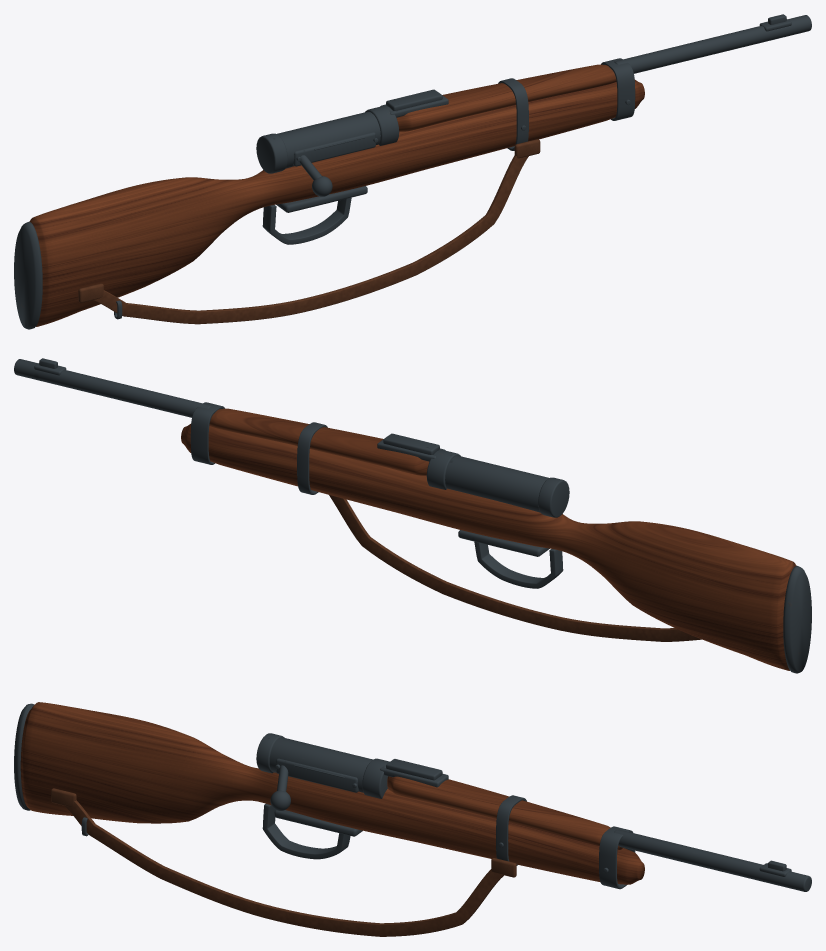
File: kar98k-exterior-wip.glb
3 views of the same model, one above another, from view 1: azimuth 30°, elevation 25°; view 2: azimuth 150°, elevation 25°; view 3: azimuth 330°, elevation 25° (orthographic).
Visible parts, largest first — view 1: stock_shell, sling_visual, upper_wood_cover, solid_front_visual_no_bore, butt_cap, closed_upper_metal_shell, external_guard_no_trigger, upper_shell_side_plate, front_contour_band, rear_shell_rim, decorative_band, underside_solid_detail (+2 smaller); view 2: stock_shell, sling_visual, upper_wood_cover, closed_upper_metal_shell, solid_front_visual_no_bore, butt_cap, external_guard_no_trigger, front_contour_band, rear_shell_rim, decorative_band, underside_solid_detail, front_shell_rim (+1 smaller); view 3: stock_shell, sling_visual, upper_wood_cover, solid_front_visual_no_bore, closed_upper_metal_shell, external_guard_no_trigger, upper_shell_side_plate, front_contour_band, decorative_band, front_shell_rim, butt_cap, underside_solid_detail (+3 smaller).
Boxes of the visible parts, x1,y1,x2,y2 form: stock_shell: (29,79,644,326); sling_visual: (93,155,528,324); upper_wood_cover: (396,64,616,131); solid_front_visual_no_bore: (614,15,811,73); butt_cap: (14,222,42,329); closed_upper_metal_shell: (277,111,380,168); external_guard_no_trigger: (262,197,351,244); upper_shell_side_plate: (293,132,375,166); front_contour_band: (601,58,635,120); rear_shell_rim: (256,133,287,173); decorative_band: (498,78,528,150); underside_solid_detail: (276,186,367,212); stock_shell: (181,423,796,670); sling_visual: (329,495,701,641); upper_wood_cover: (209,408,429,475); closed_upper_metal_shell: (445,455,548,512); solid_front_visual_no_bore: (14,359,211,417); butt_cap: (783,566,811,673); external_guard_no_trigger: (474,541,563,588); front_contour_band: (190,402,224,464); rear_shell_rim: (538,477,569,517); decorative_band: (297,422,327,494); underside_solid_detail: (458,530,549,556); front_shell_rim: (426,450,460,489); stock_shell: (20,702,644,884); sling_visual: (64,800,503,936); upper_wood_cover: (387,776,622,849); solid_front_visual_no_bore: (614,829,811,891); closed_upper_metal_shell: (269,737,372,792); external_guard_no_trigger: (262,804,350,859); upper_shell_side_plate: (276,758,358,792); front_contour_band: (599,826,635,889); decorative_band: (496,795,526,865); front_shell_rim: (362,758,389,798); butt_cap: (14,703,34,810); underside_solid_detail: (274,810,362,836).
Size of the model in its own units: 4.79 by 0.9903 by 0.42.
3 materials, 3 textured.
